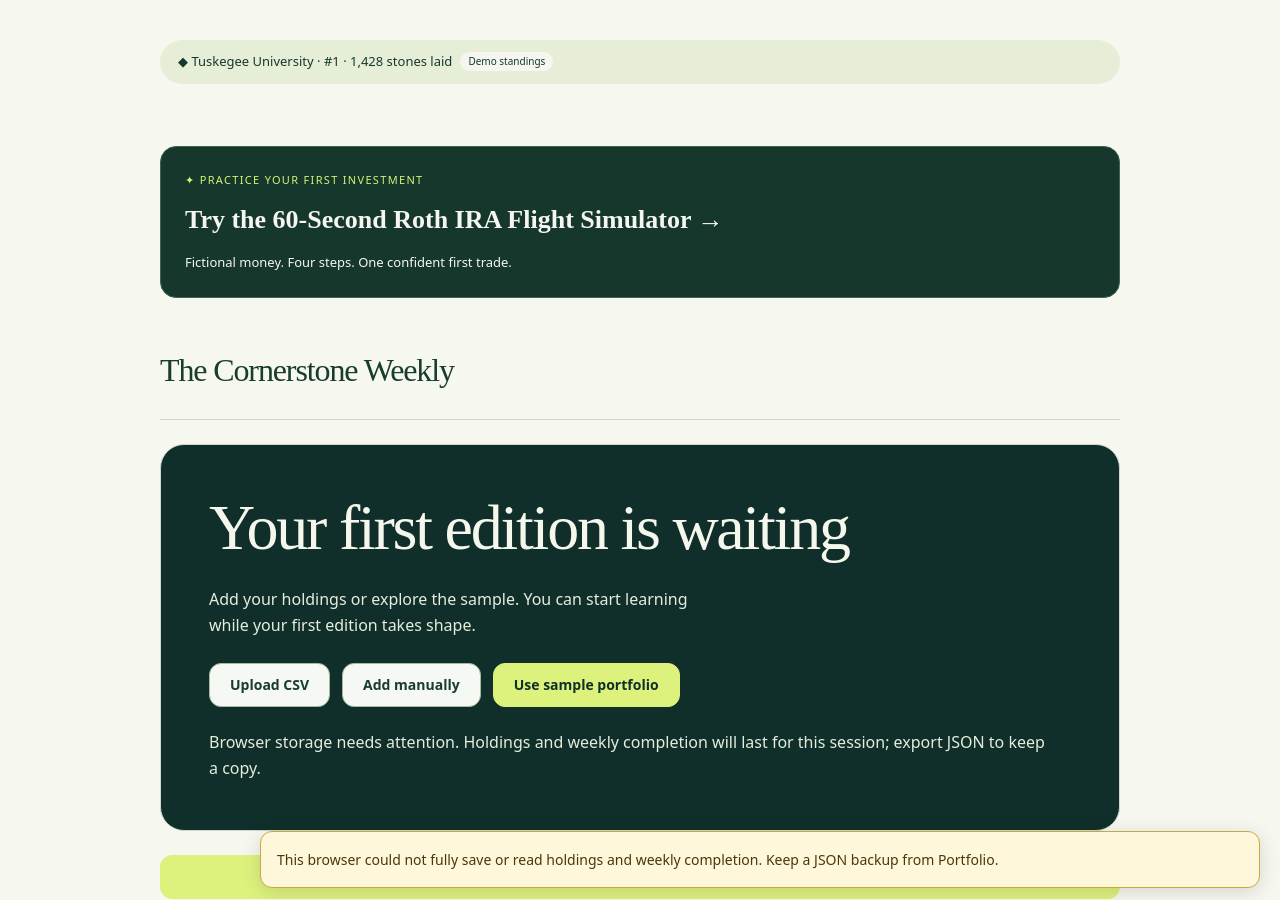
Test case: shows a visible storage warning even after the priced Home replaces its input controls
This screenshot has width=1280, height=900.
Click the button "Use sample portfolio": click(586, 685) [493,663,680,707]
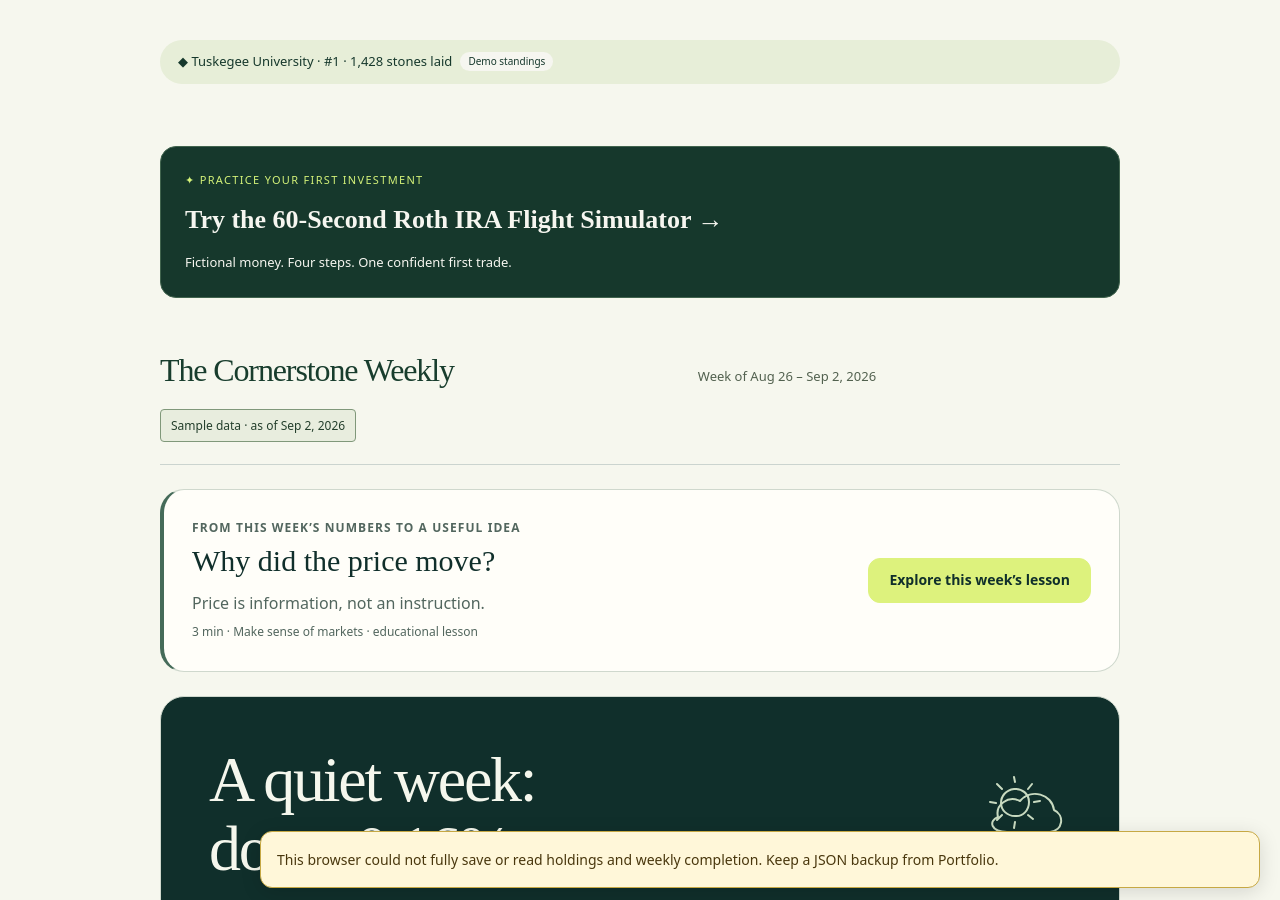
expect the text "This browser could not fully save or read holdings" is shown: met, box [277,850,998,869]
expect the link "Explore this week’s lesson" is shown: met, box [868,558,1091,603]
